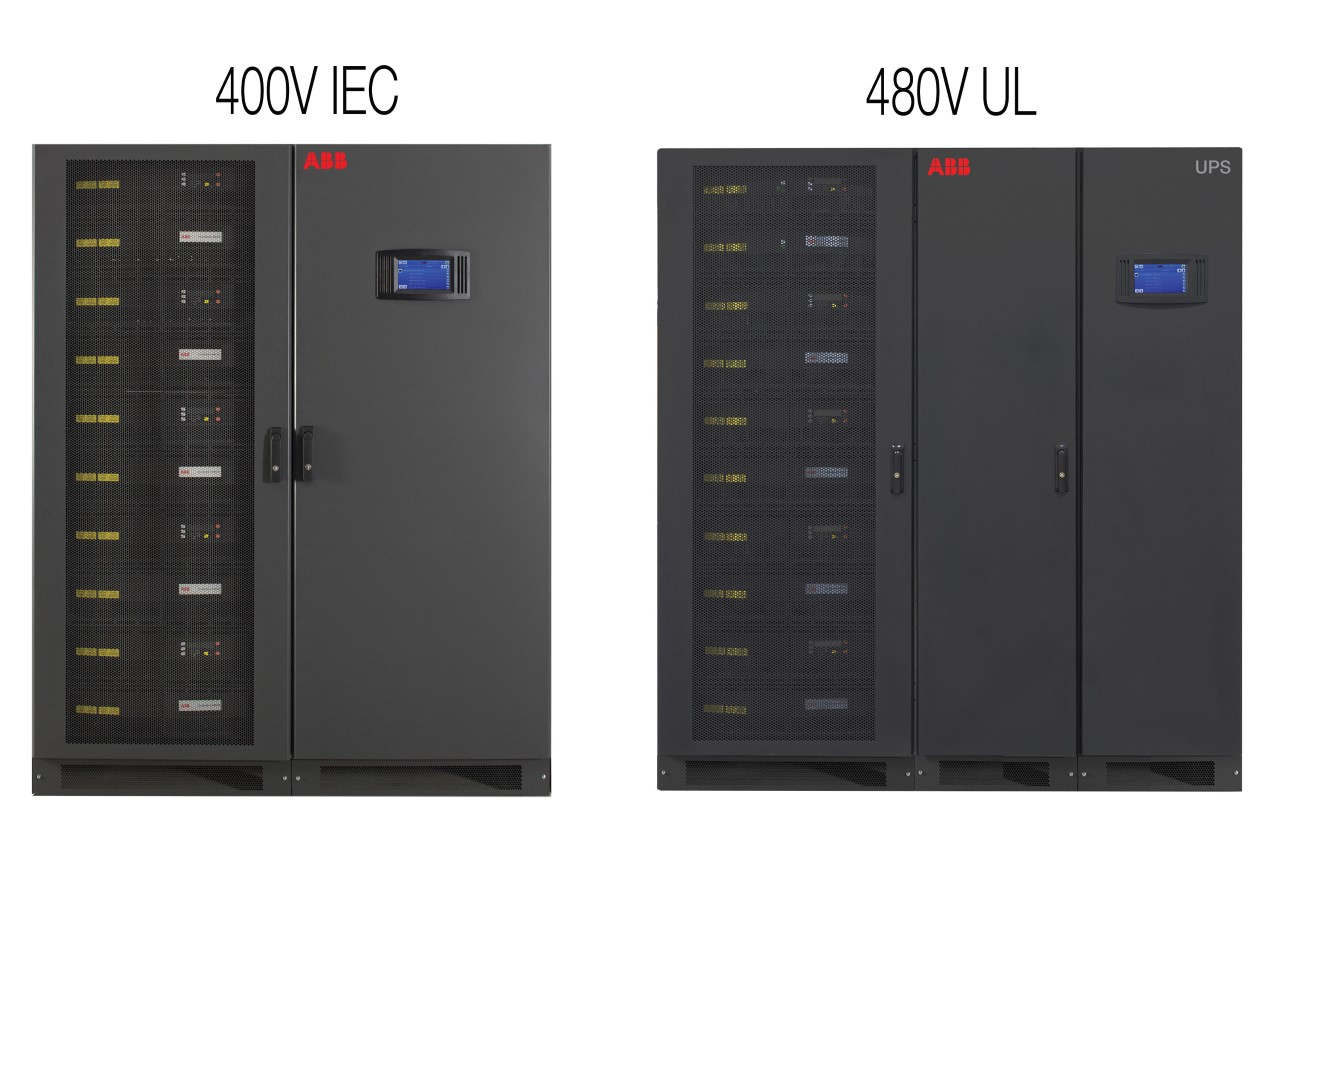UPS: (18, 136, 568, 810)
